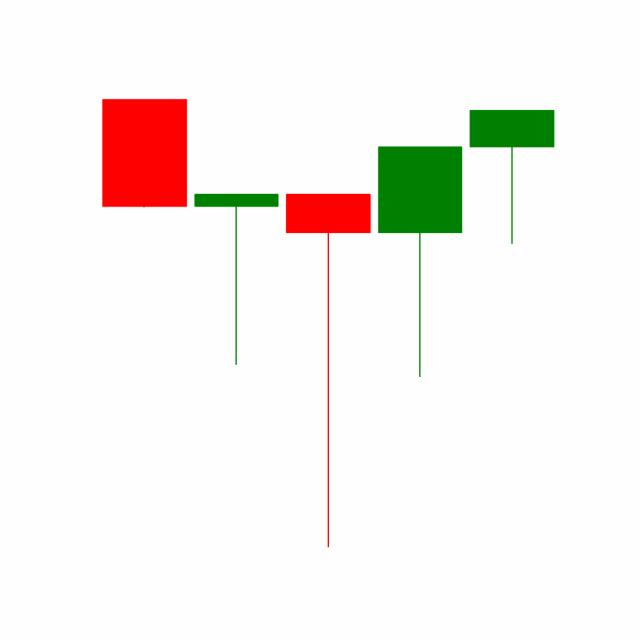Hanging Man: (464, 108, 558, 245)
